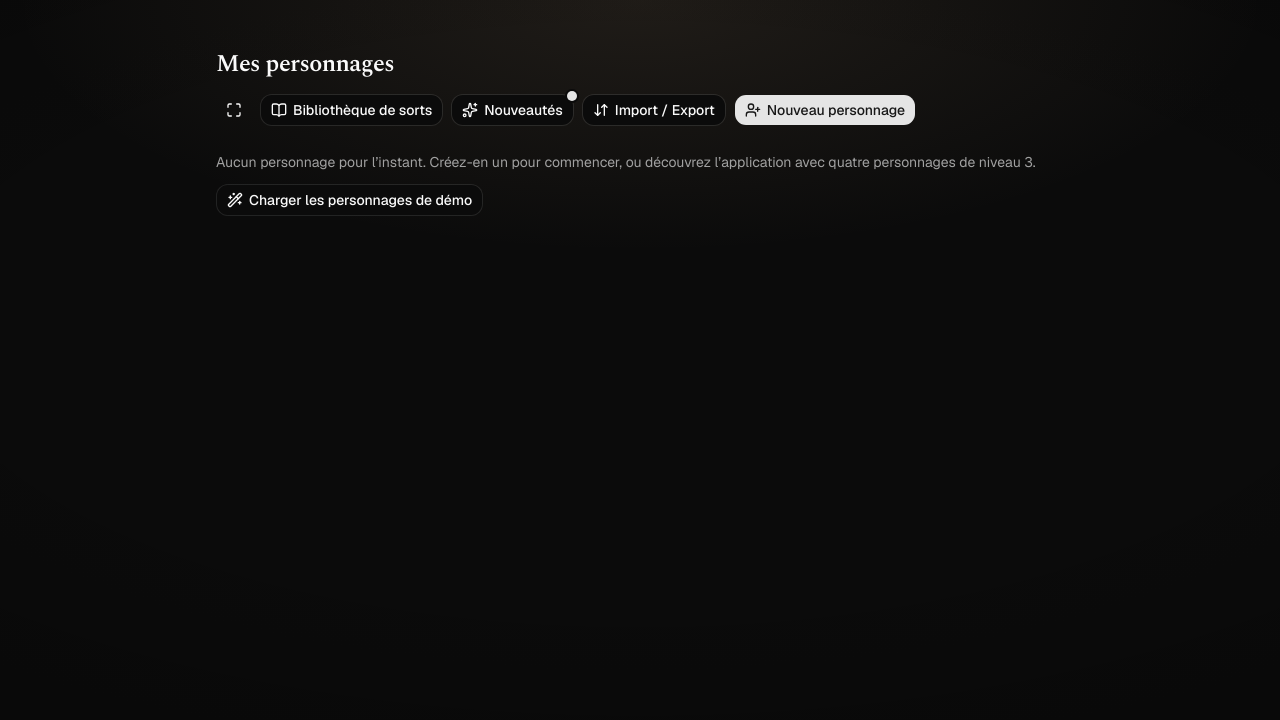
CharacterList › shows an empty state, then creates and lists a character
Expected: the text "Aucun personnage" is shown, top-left (216, 153), bottom-right (1036, 171)
Click the button "Nouveau personnage" at (825, 110), box top-left (734, 94), bottom-right (916, 126)
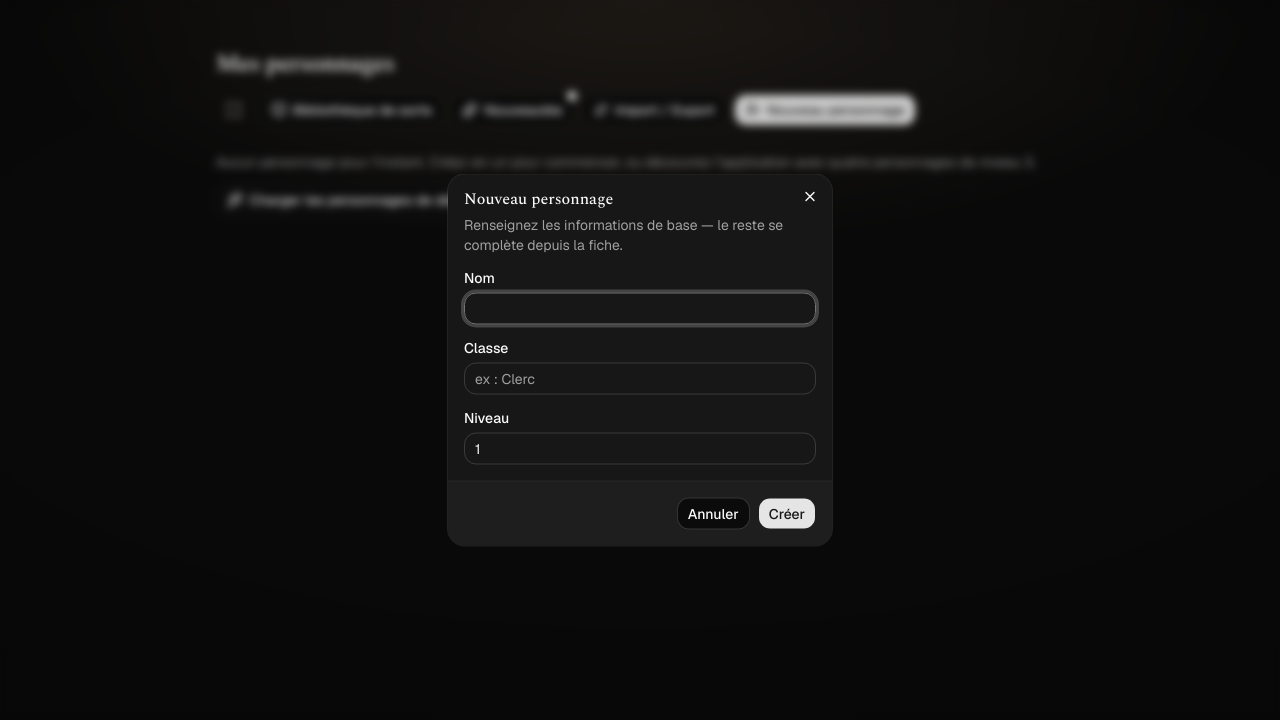
Type "Elara Duskwood" into the field labelled "Nom" at (640, 308), box top-left (464, 292), bottom-right (816, 324)
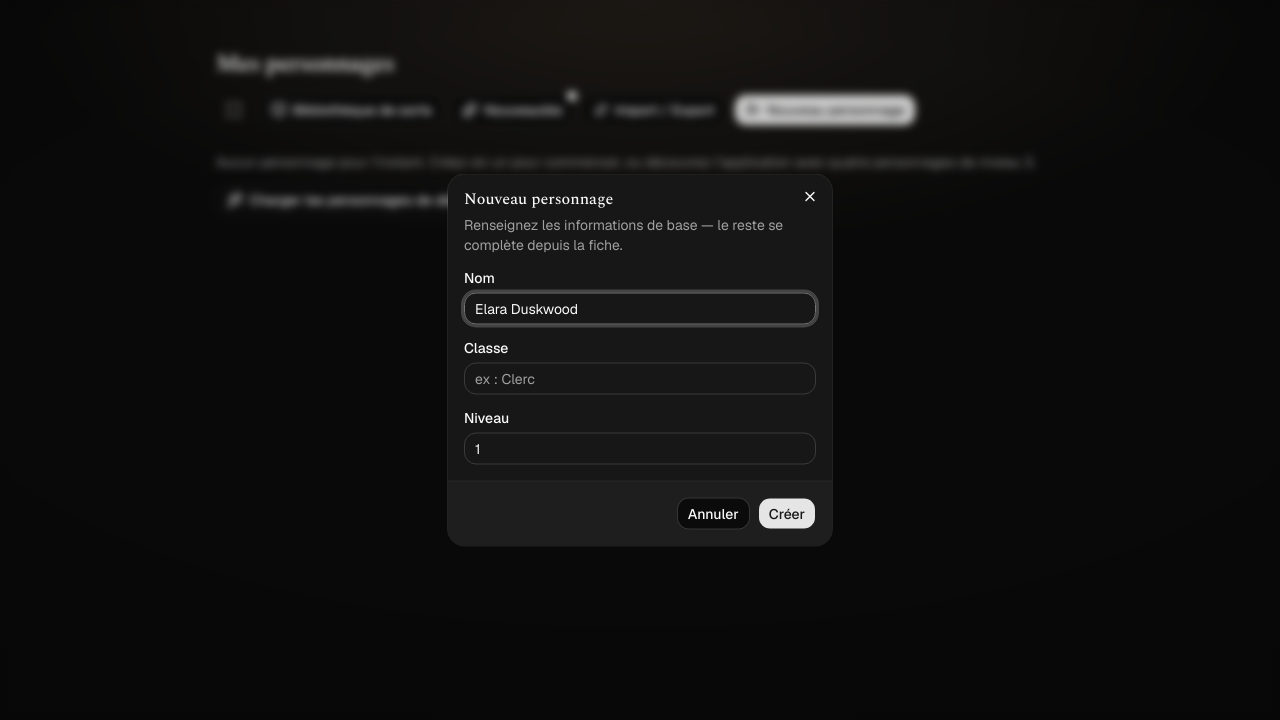
Type "Clerc" into the field labelled "Classe" at (640, 378), box top-left (464, 362), bottom-right (816, 394)
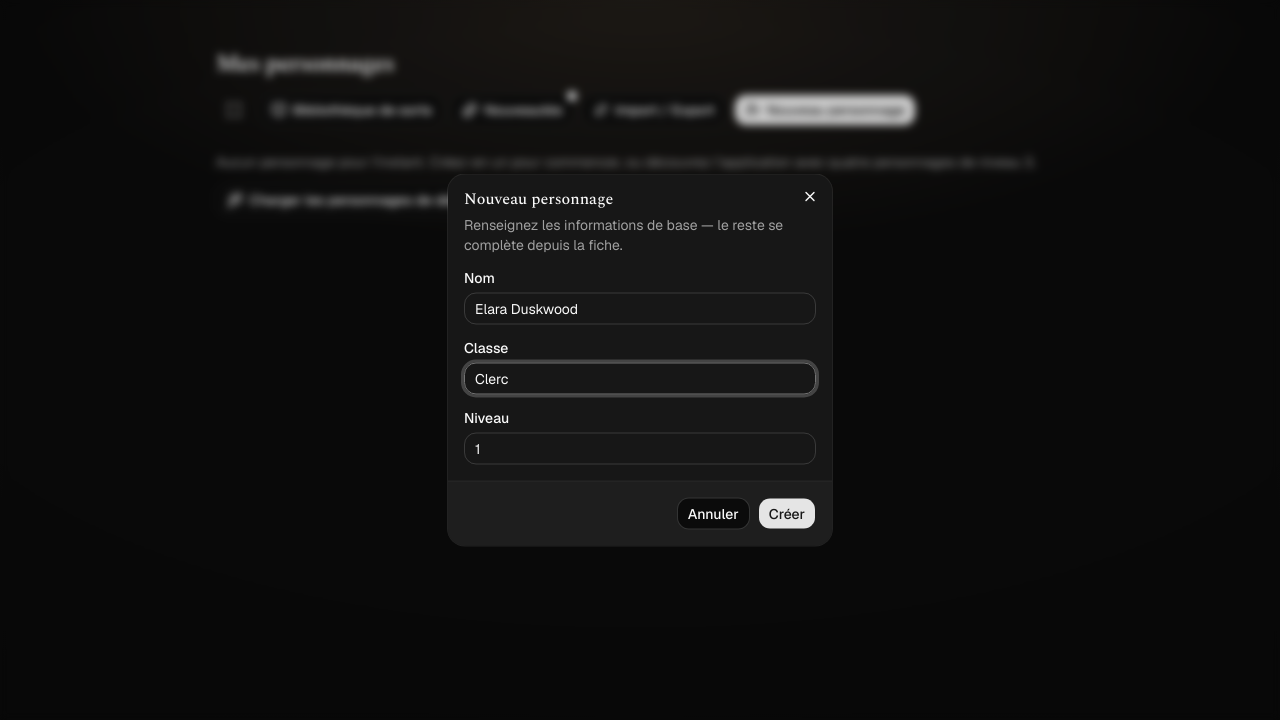
Click the button "Créer" at (787, 514), box top-left (758, 498), bottom-right (816, 530)
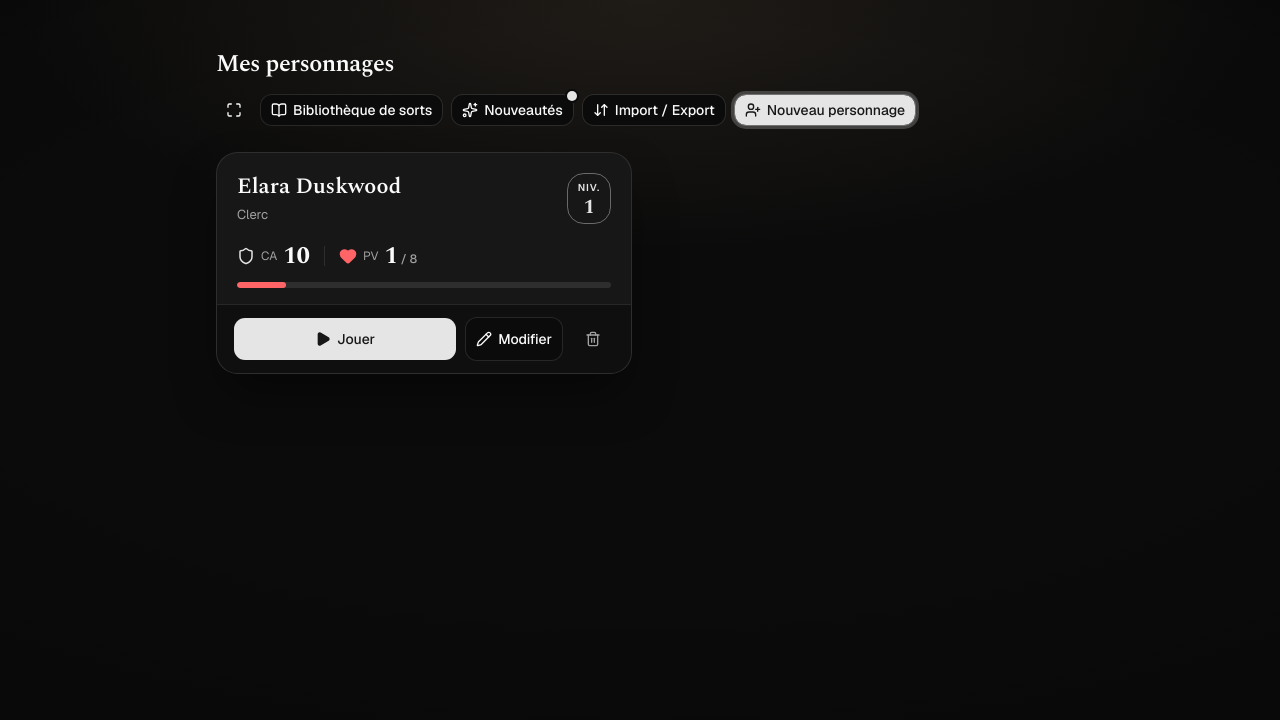
Now the heading "Elara Duskwood" is shown, box top-left (237, 173), bottom-right (401, 200)
Now the text "Clerc" is shown, box top-left (237, 206), bottom-right (268, 222)
Now the text "Niv. 1" is shown, box top-left (567, 173), bottom-right (611, 224)
